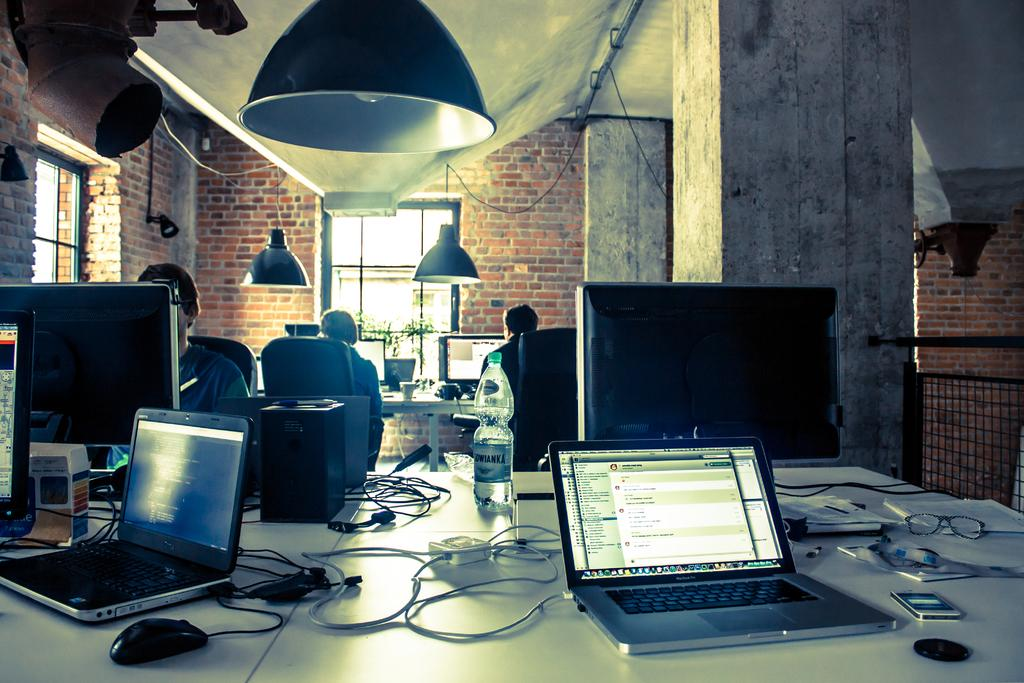Laptop: (536, 443, 910, 671), (0, 407, 253, 623)
